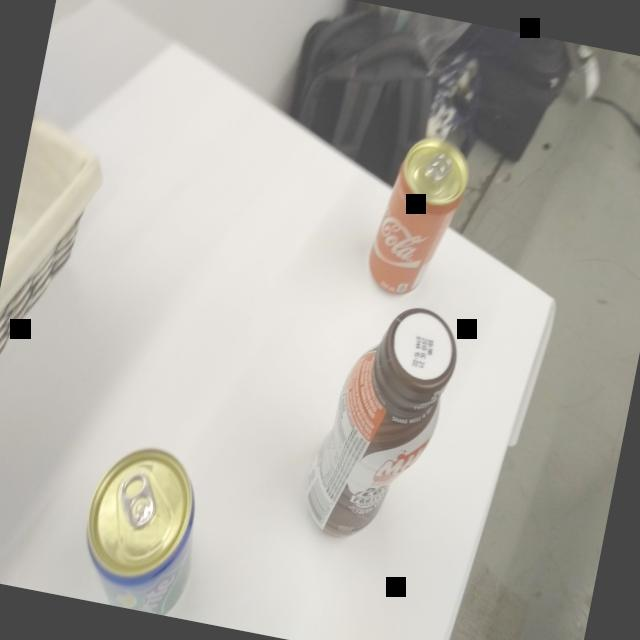chocolate_drink: (285, 286, 469, 559)
coke: (355, 123, 479, 310)
sprite: (68, 433, 216, 619)
